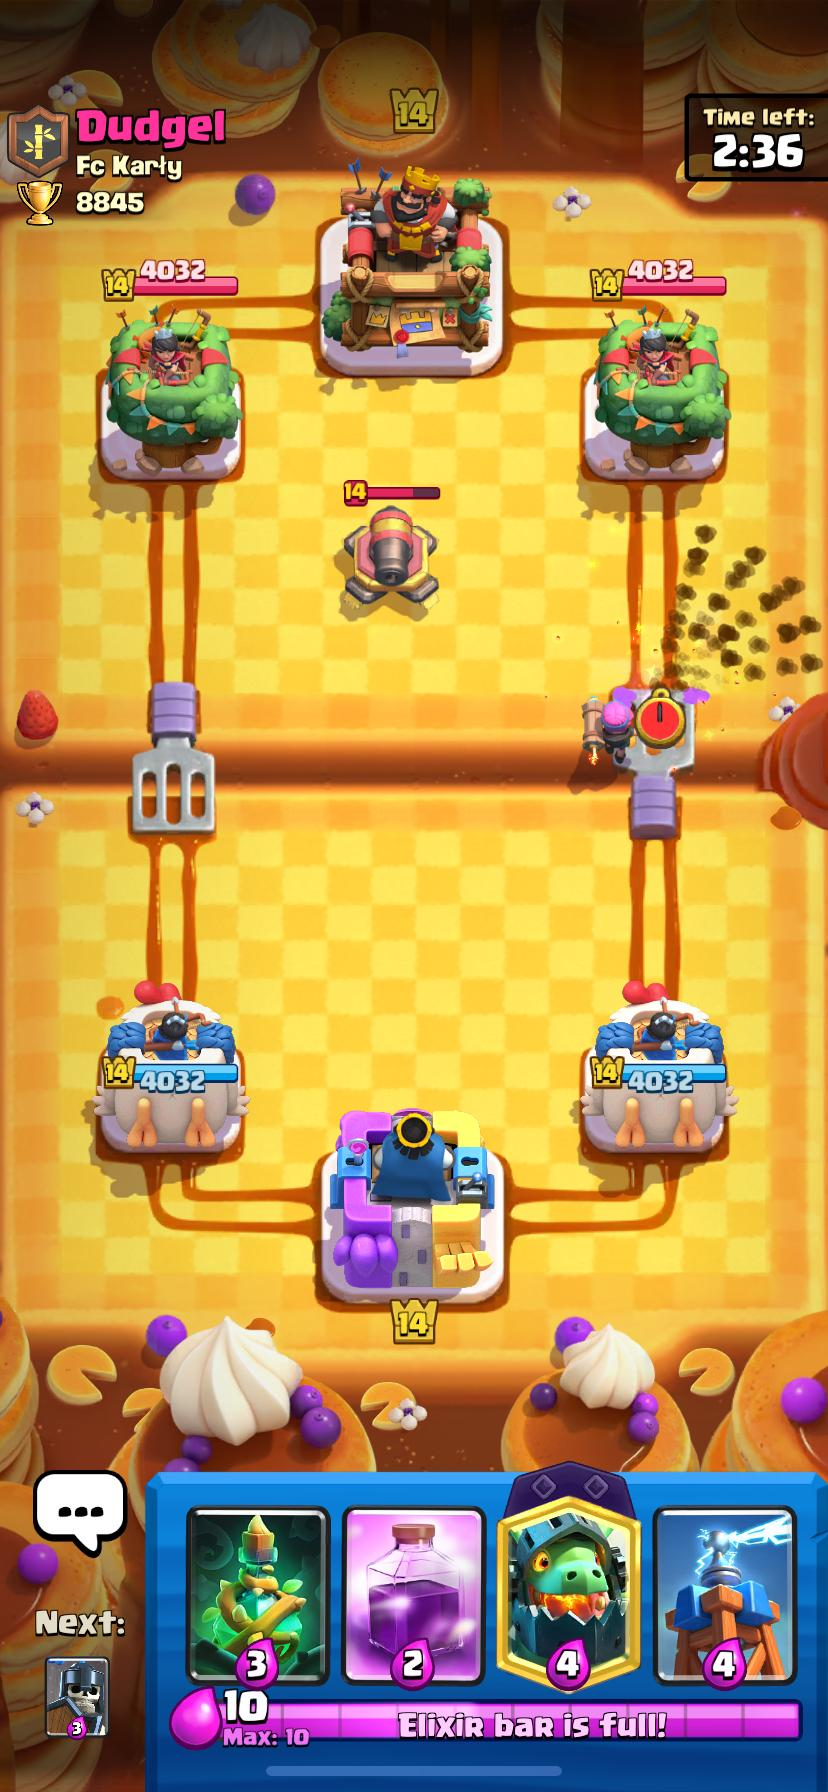EKingTower: (323, 167, 491, 351)
Ecan: (343, 503, 437, 608)
EnemyPrincessTower: (594, 311, 729, 474), (108, 311, 241, 466)
OFirecrack: (583, 688, 632, 767)
OwnKingTower: (331, 1109, 494, 1299)
OwnPrincessTower: (580, 983, 735, 1151), (93, 983, 248, 1151)
